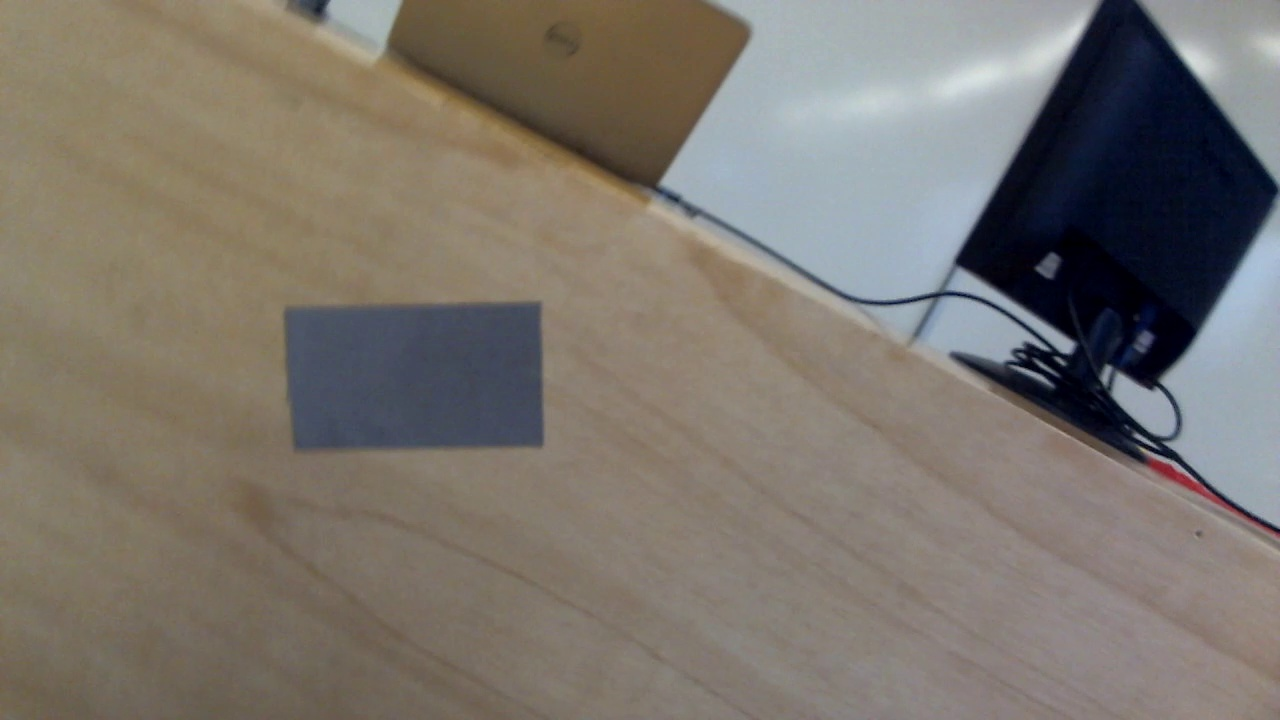Tape: (285, 301, 546, 454)
